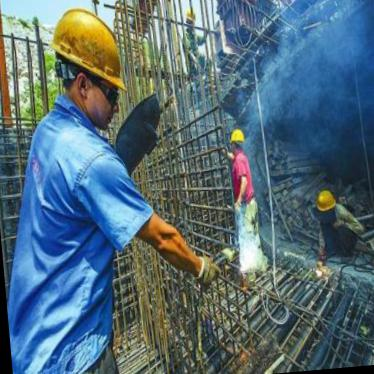helmet: (47, 4, 129, 96), (315, 189, 336, 211), (229, 127, 246, 146)
